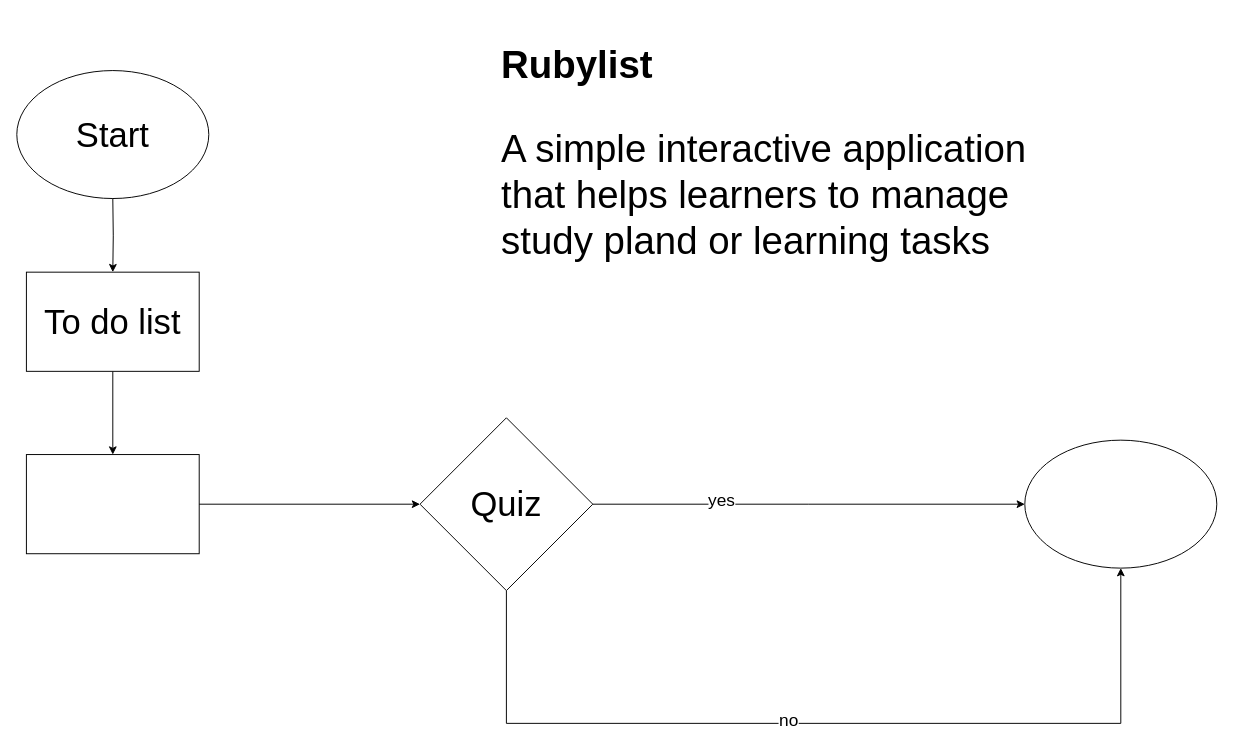
Image size: 1234x749. Some labels were removed from this diagram. Each missing label, with the box of its shape:
Exit: (1024, 439, 1217, 568)
Features: (25, 454, 199, 554)
